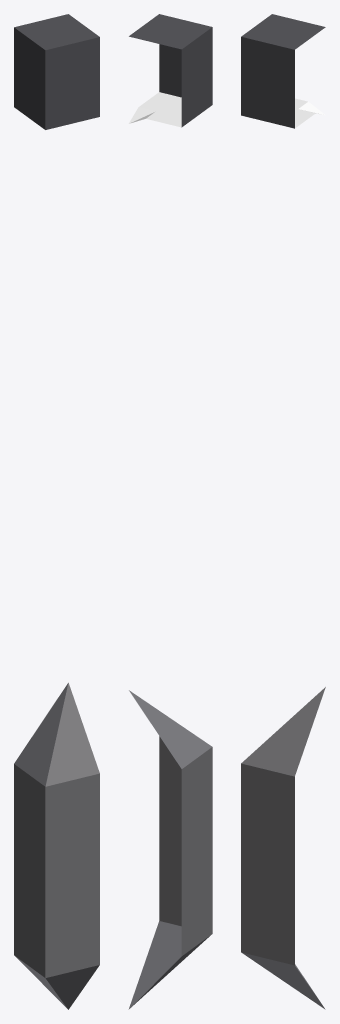
The model's file is Wall Corner.fbx.
3 views of the same model, side by side, from view 1: azimuth 30°, elevation 25°; view 2: azimuth 150°, elevation 25°; view 3: azimuth 330°, elevation 25° (orthographic). The views are drawn at different scales.
Parts seen in each view (by area): view 1: Wall Corner; view 2: Wall Corner; view 3: Wall Corner.
Boxes of the visible parts, <box> form: Wall Corner: <box>14,14,99,1009</box>; Wall Corner: <box>128,14,212,1009</box>; Wall Corner: <box>241,14,325,1009</box>.
Bounding box in the file's own units: 10 × 175 × 10.
